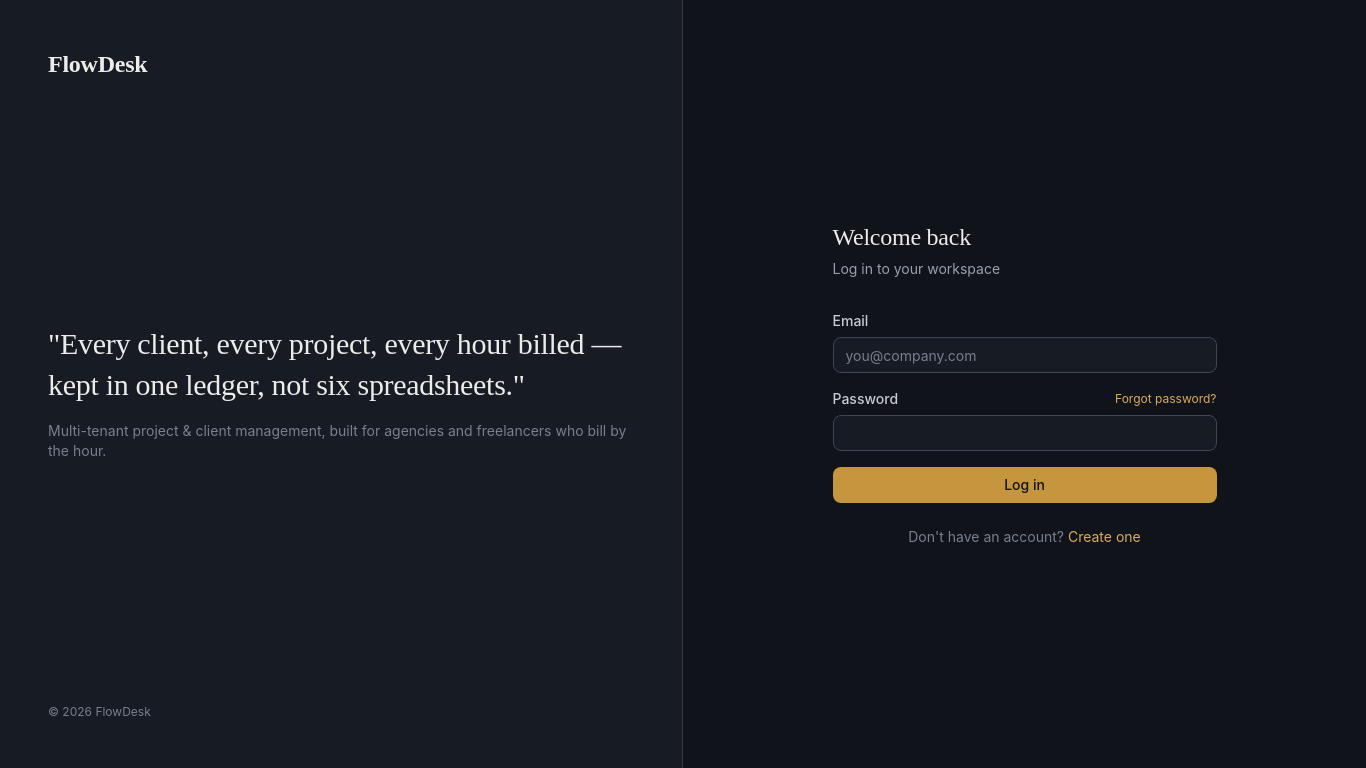
LoginPage › shows a validation error when password is empty
Type "ada@example.com" into the field labelled "Email" at {"x": 1024, "y": 355}, box [832,337,1216,373]
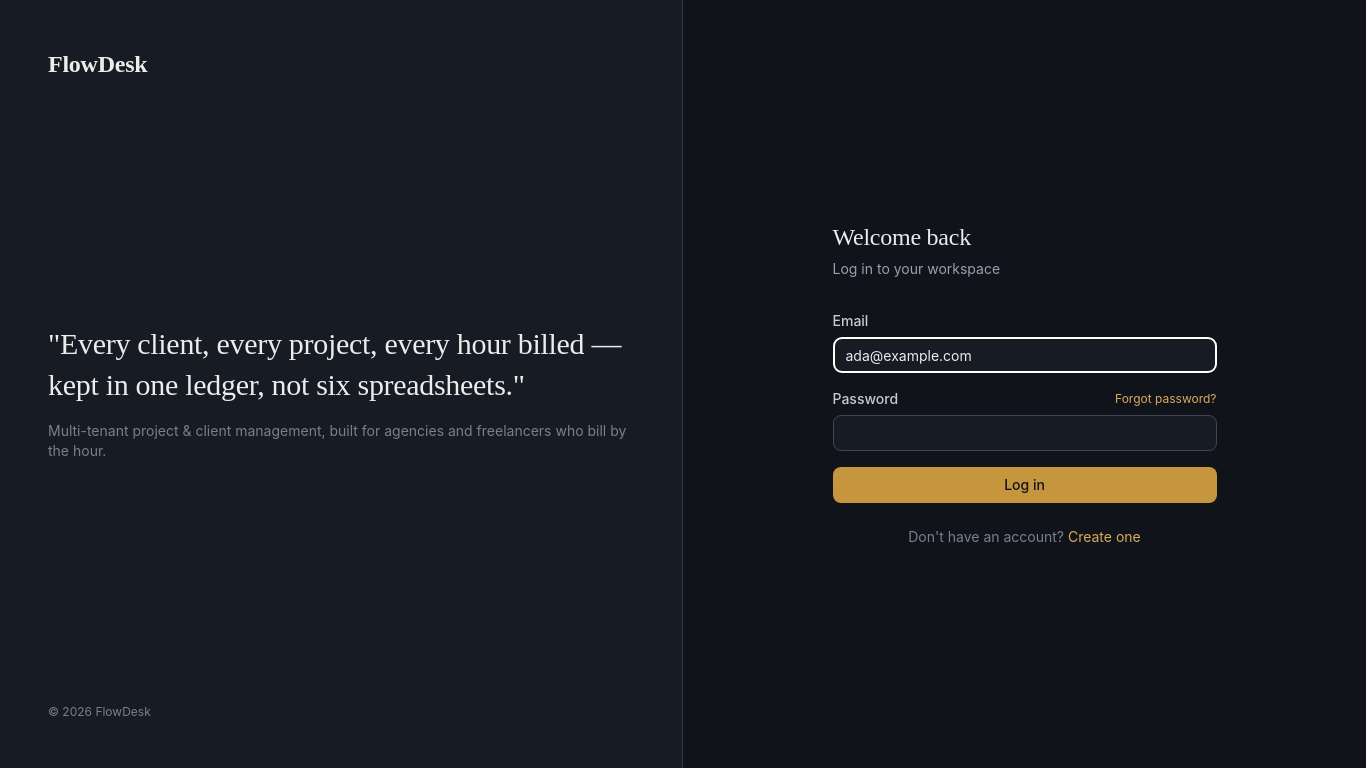
Click the button "Log in" at {"x": 1024, "y": 485}, box [832,467,1216,503]
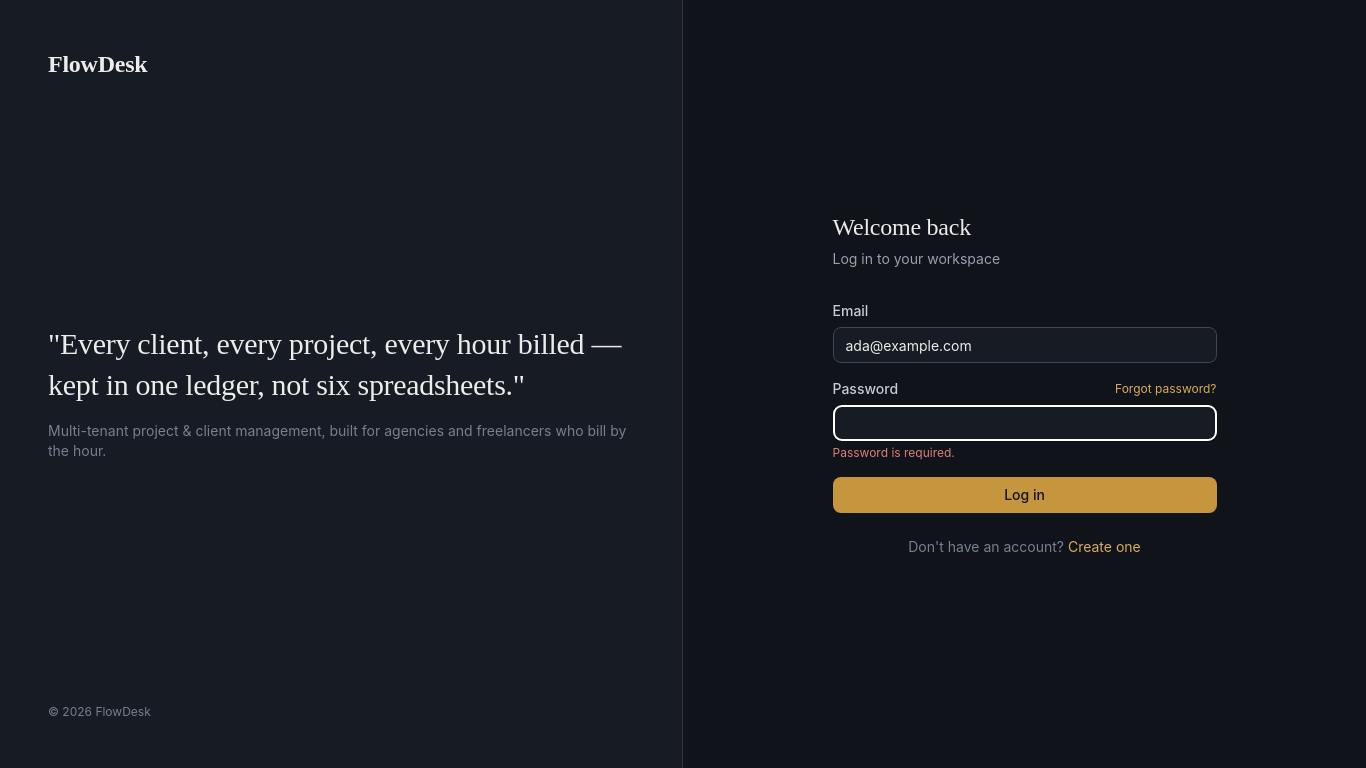
expect the text "Password is required." is shown: met, box [832,445,955,460]
